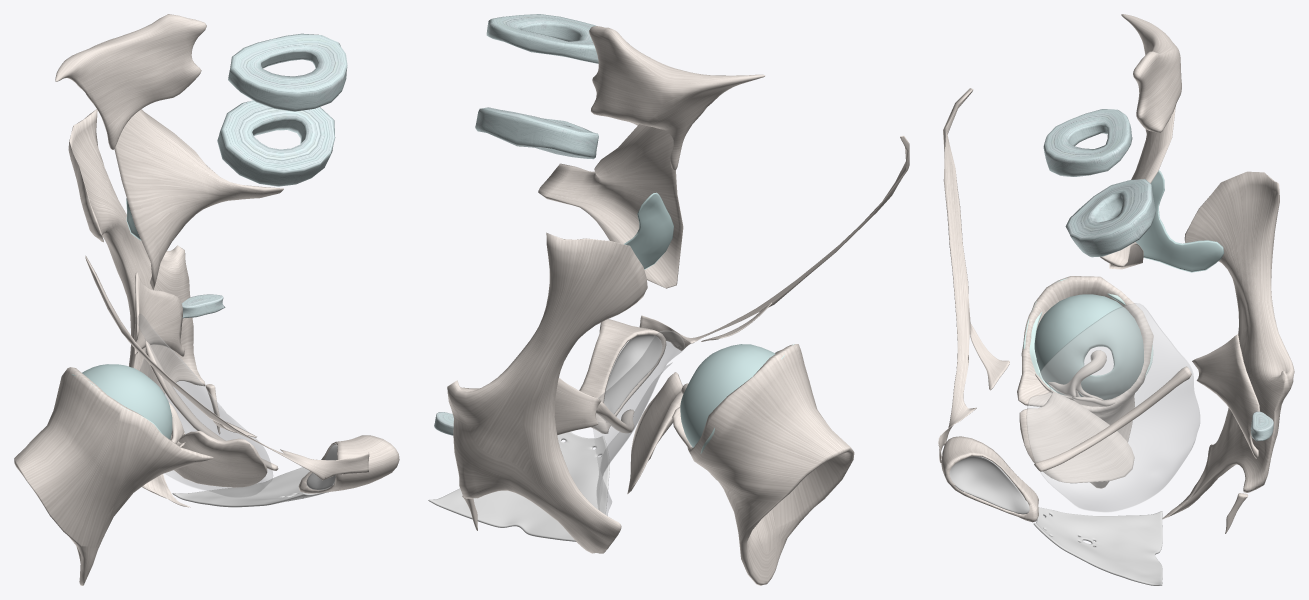
File: open3d-pelvicfloor-connective-01.glb
3 renders of one model, left to right at view 1: azimuth 30°, elevation 25°; view 2: azimuth 150°, elevation 25°; view 3: azimuth 270°, elevation 25°, orthographic. The views are drawn at different scales.
Visible parts, largest first — view 1: O3D_9be3709abe9ef6, O3D_00fdf2fe1ee125, O3D_39a9acb12314ca, O3D_88578a6bf95872, O3D_99cd70ff6c8433, O3D_7453a2100bc954, O3D_0e660c3d45f193, O3D_f3b93ff8e68e28, O3D_6ccddedf2e005d, O3D_04aa129e5623e0, O3D_b546b2c5e7c2c9, O3D_9756619dccf4de (+4 smaller); view 2: O3D_39a9acb12314ca, O3D_9be3709abe9ef6, O3D_00fdf2fe1ee125, O3D_88578a6bf95872, O3D_6ccddedf2e005d, O3D_9756619dccf4de, O3D_0e660c3d45f193, O3D_99cd70ff6c8433, O3D_7453a2100bc954, O3D_e2a41cd9a821c5, O3D_f3b93ff8e68e28, O3D_fc81a5910d7c4e (+3 smaller); view 3: O3D_0e660c3d45f193, O3D_39a9acb12314ca, O3D_6ccddedf2e005d, O3D_9756619dccf4de, O3D_f3b93ff8e68e28, O3D_9be3709abe9ef6, O3D_99cd70ff6c8433, O3D_7453a2100bc954, O3D_b546b2c5e7c2c9, O3D_88578a6bf95872, O3D_04aa129e5623e0, O3D_fc81a5910d7c4e (+7 smaller).
Boxes of the visible parts, <box> form: O3D_9be3709abe9ef6: <box>14,367,213,585</box>; O3D_00fdf2fe1ee125: <box>114,109,283,290</box>; O3D_39a9acb12314ca: <box>68,109,205,507</box>; O3D_88578a6bf95872: <box>55,14,206,149</box>; O3D_99cd70ff6c8433: <box>217,100,335,186</box>; O3D_7453a2100bc954: <box>228,33,347,111</box>; O3D_0e660c3d45f193: <box>138,313,272,497</box>; O3D_f3b93ff8e68e28: <box>174,431,267,487</box>; O3D_6ccddedf2e005d: <box>82,198,172,439</box>; O3D_04aa129e5623e0: <box>133,272,184,356</box>; O3D_b546b2c5e7c2c9: <box>85,255,369,480</box>; O3D_9756619dccf4de: <box>172,467,328,507</box>; O3D_39a9acb12314ca: <box>447,232,647,553</box>; O3D_9be3709abe9ef6: <box>687,344,854,585</box>; O3D_00fdf2fe1ee125: <box>538,124,683,288</box>; O3D_88578a6bf95872: <box>589,26,765,170</box>; O3D_6ccddedf2e005d: <box>624,192,775,447</box>; O3D_9756619dccf4de: <box>428,431,609,541</box>; O3D_0e660c3d45f193: <box>593,331,684,515</box>; O3D_99cd70ff6c8433: <box>475,107,598,159</box>; O3D_7453a2100bc954: <box>486,14,598,63</box>; O3D_e2a41cd9a821c5: <box>579,319,666,433</box>; O3D_f3b93ff8e68e28: <box>627,372,682,494</box>; O3D_fc81a5910d7c4e: <box>604,334,662,414</box>; O3D_0e660c3d45f193: <box>1026,303,1199,512</box>; O3D_39a9acb12314ca: <box>1162,171,1294,518</box>; O3D_6ccddedf2e005d: <box>1034,170,1224,399</box>; O3D_9756619dccf4de: <box>1033,507,1162,585</box>; O3D_f3b93ff8e68e28: <box>1019,391,1134,483</box>; O3D_9be3709abe9ef6: <box>1017,276,1153,488</box>; O3D_99cd70ff6c8433: <box>1065,179,1155,257</box>; O3D_7453a2100bc954: <box>1043,109,1132,176</box>; O3D_b546b2c5e7c2c9: <box>938,88,976,462</box>; O3D_88578a6bf95872: <box>1121,14,1181,134</box>; O3D_04aa129e5623e0: <box>1192,334,1259,458</box>; O3D_fc81a5910d7c4e: <box>949,456,1029,514</box>.
Bounding box in the file's own units: 0.166 × 0.2306 × 0.1522.
Materials: 7 (4 with a texture image).
